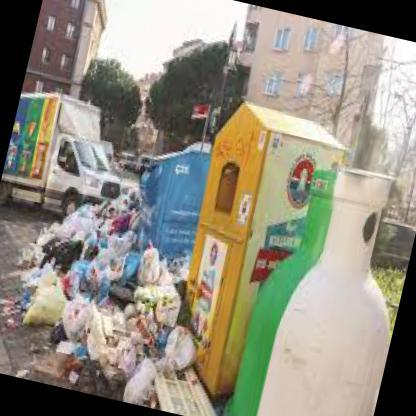Garbage: (61, 214, 130, 302), (22, 263, 78, 332), (42, 332, 96, 390), (117, 356, 168, 406), (0, 280, 42, 337), (162, 320, 204, 376), (58, 287, 98, 340), (18, 242, 67, 282), (154, 289, 196, 326), (134, 245, 164, 286), (112, 252, 143, 290), (117, 298, 148, 336), (106, 204, 137, 240), (44, 214, 78, 239), (54, 231, 76, 253)
